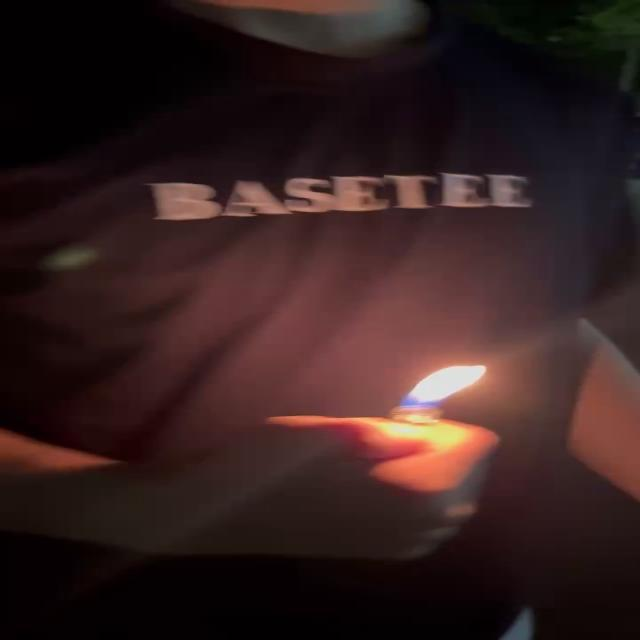Fire: (392, 361, 492, 414)
